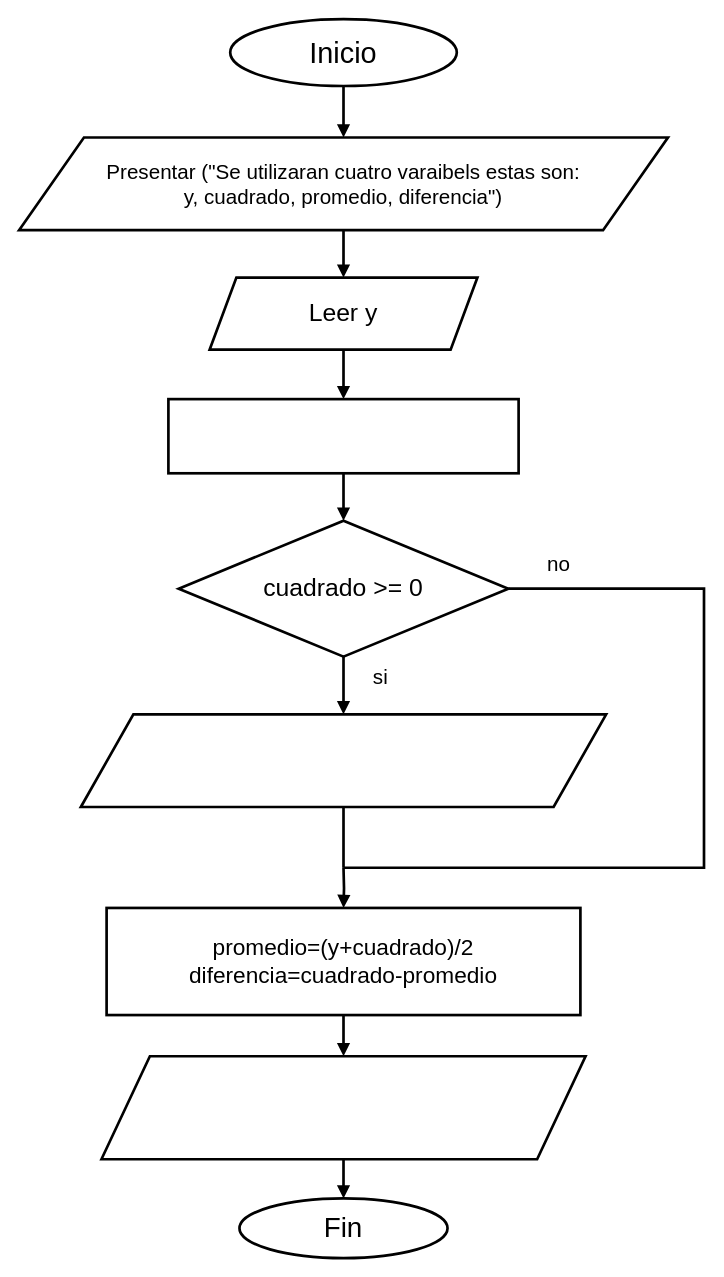
Some shapes in this 724 by 1277 pixel diagram are drawn without their labels. The centre of each missing label's shape, as x and y in pixels:
cuadrado=y^2: [343,435]
Presentar ("El cuadrado de " + y + " es " + cuadrado): [343,760]
Presentar("Promedio:"+promedio) Presentar("Diferencia:"+diferencia): [343,1107]
